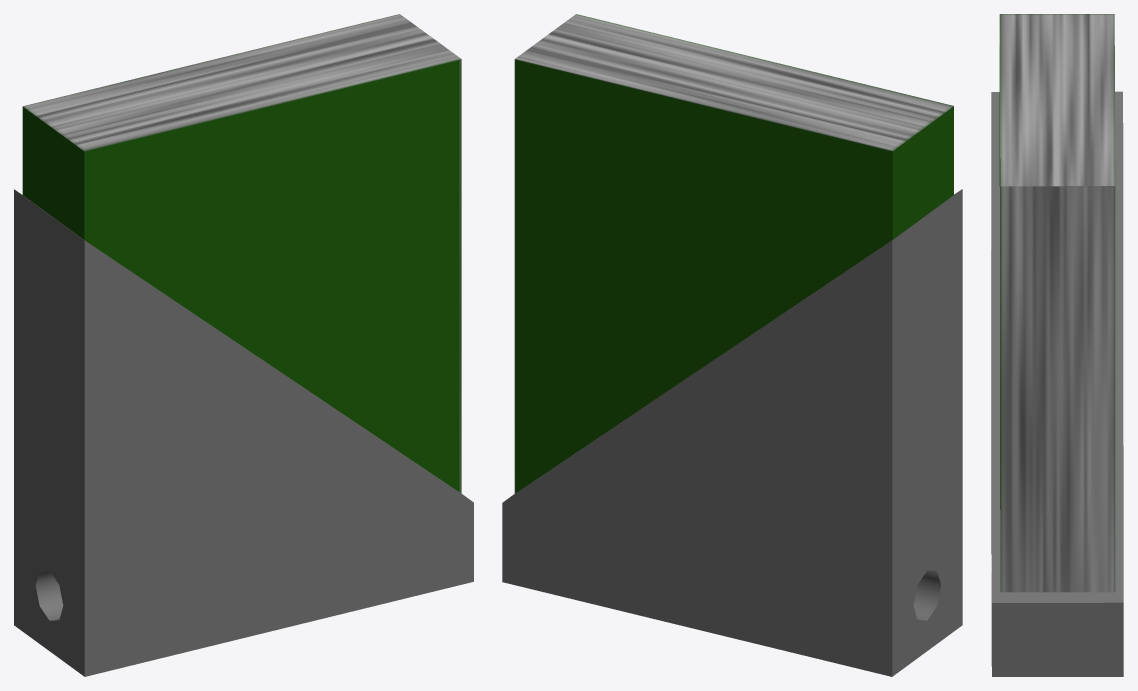
File: FolderA.fbx
3 views of the same model, side by side, from view 1: azimuth 30°, elevation 25°; view 2: azimuth 150°, elevation 25°; view 3: azimuth 270°, elevation 25° (orthographic). The views are drawn at different scales.
Parts seen in each view (by area): view 1: FolderA; view 2: FolderA; view 3: FolderA.
Part boxes in pixels (x1,y1,x2,y2): FolderA: [14, 14, 473, 676]; FolderA: [502, 14, 962, 676]; FolderA: [991, 14, 1123, 676].
Size of the model in its own units: 30.02 by 38.4 by 9.45.
